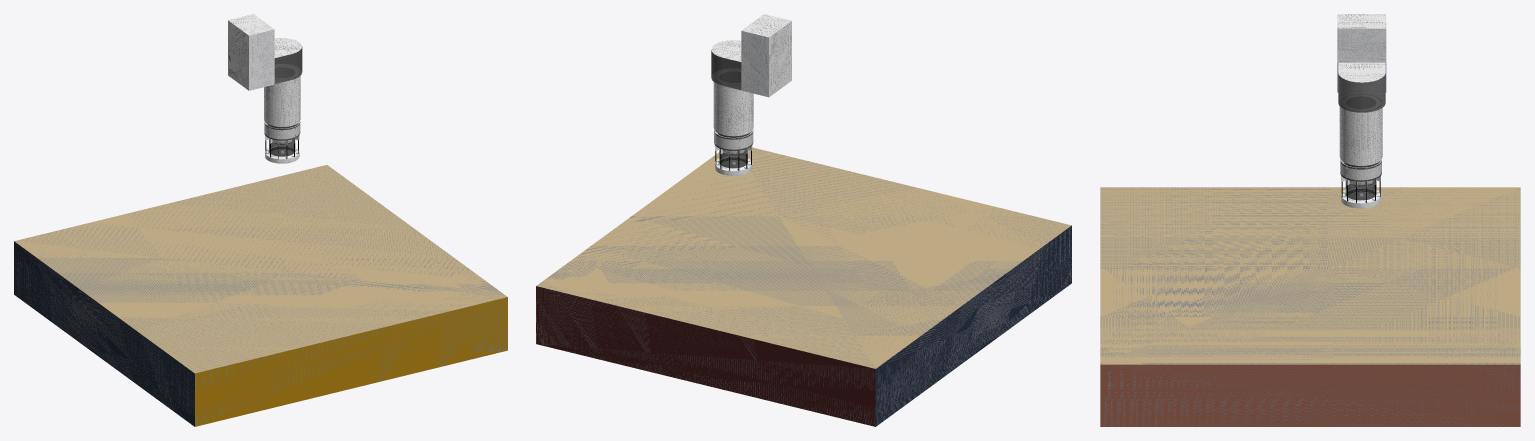
The picture shows the model from 3 angles, left to right: view 1: azimuth 30°, elevation 25°; view 2: azimuth 150°, elevation 25°; view 3: azimuth 270°, elevation 25°; orthographic projection. The views are drawn at different scales.
Parts seen in each view (by area): view 1: floor (×3), Component_3 (×4); view 2: floor (×3), Component_3 (×5); view 3: floor (×2), Component_3 (×5), Cube_Dispenser (×2).
Part boxes in pixels (<box>): floor (×3): <box>14,165,507,426</box>; Component_3 (×4): <box>228,14,302,126</box>; floor (×3): <box>536,147,1071,426</box>; Component_3 (×5): <box>711,14,791,136</box>; floor (×2): <box>1100,187,1520,426</box>; Component_3 (×5): <box>1337,14,1386,165</box>; Cube_Dispenser (×2): <box>1340,160,1381,200</box>.
Size of the model in its own units: 1000 by 1000 by 850.
